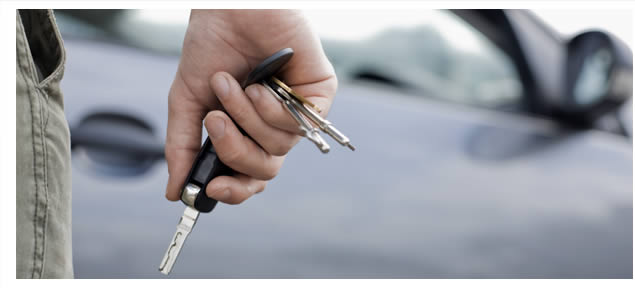keys: (243, 52, 370, 165), (147, 126, 240, 277)
